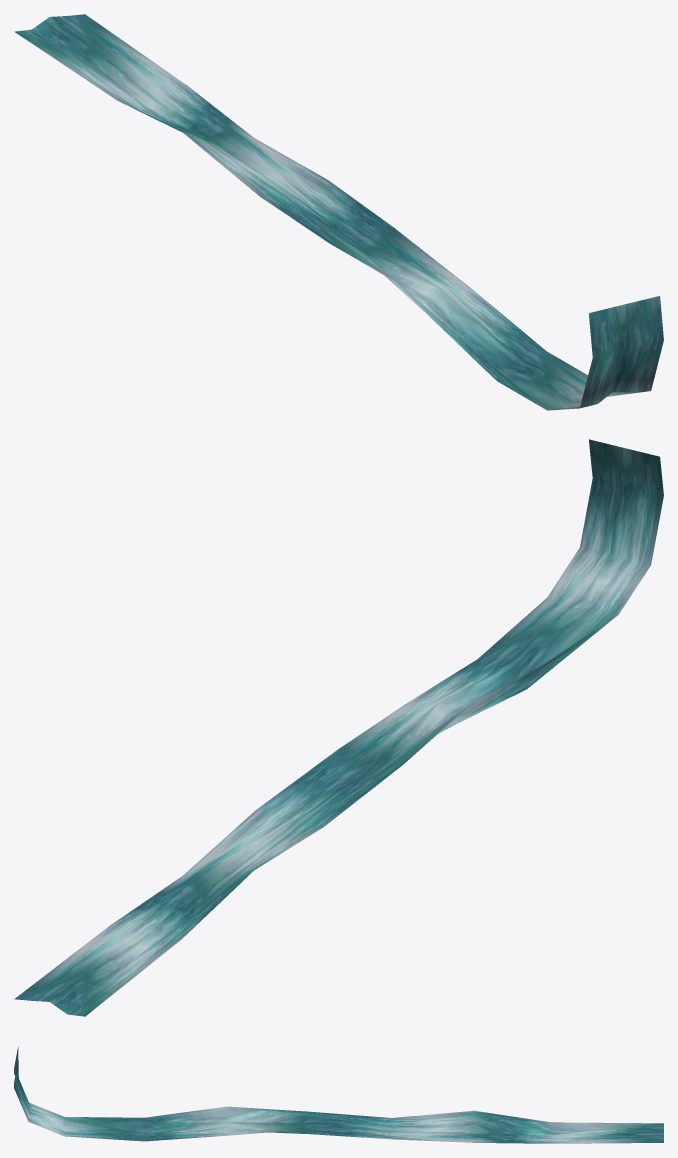
3 renders of one model, top to bottom at view 1: azimuth 30°, elevation 25°; view 2: azimuth 150°, elevation 25°; view 3: azimuth 270°, elevation 25°, orthographic. The views are drawn at different scales.
Parts seen in each view (by area): view 1: model_object29; view 2: model_object29; view 3: model_object29.
Boxes of the visible parts, box(x1,y1,x2,y2) form: model_object29: box(14, 14, 663, 410); model_object29: box(14, 439, 663, 1016); model_object29: box(14, 1046, 663, 1143).
Size of the model in its own units: 0.1733 by 0.3388 by 2.29.
Materials: 1 (1 with a texture image).
